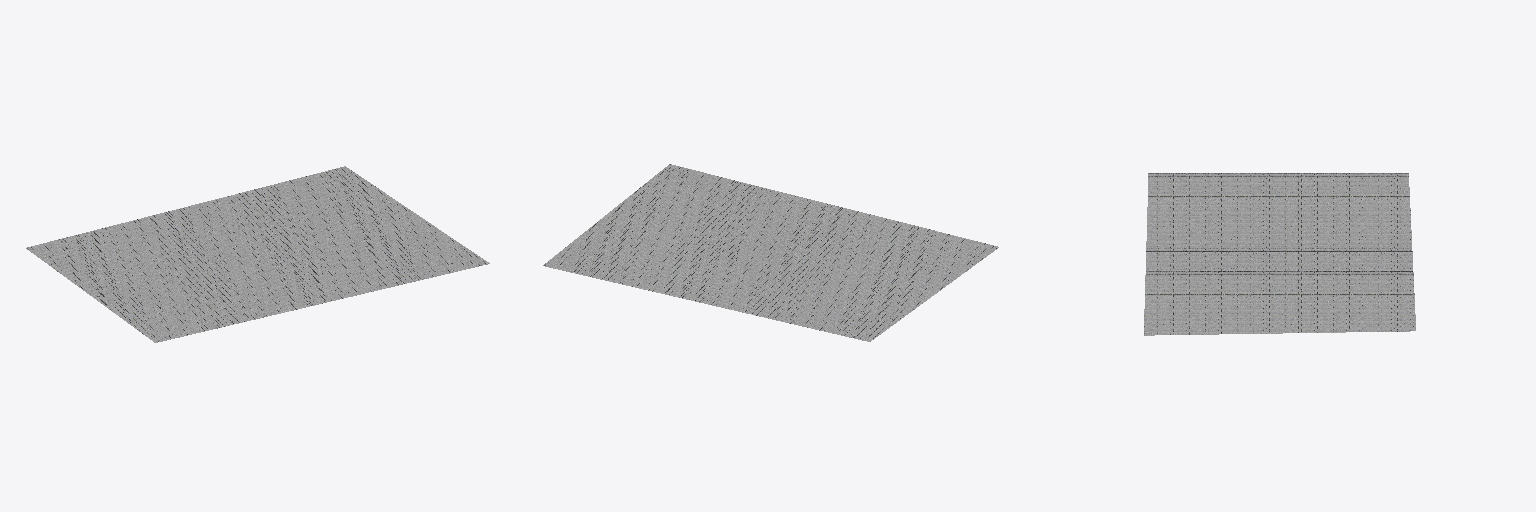
The picture shows the model from 3 angles: view 1: azimuth 30°, elevation 25°; view 2: azimuth 150°, elevation 25°; view 3: azimuth 270°, elevation 25°; orthographic projection.
Visible parts, largest first — view 1: city-floor; view 2: city-floor; view 3: city-floor.
Boxes of the visible parts, <box> form: city-floor: <box>26,166,489,342</box>; city-floor: <box>543,164,998,341</box>; city-floor: <box>1144,173,1415,335</box>.
Size of the model in its own units: 245 by 2.1 by 174.
1 materials, 1 textured.